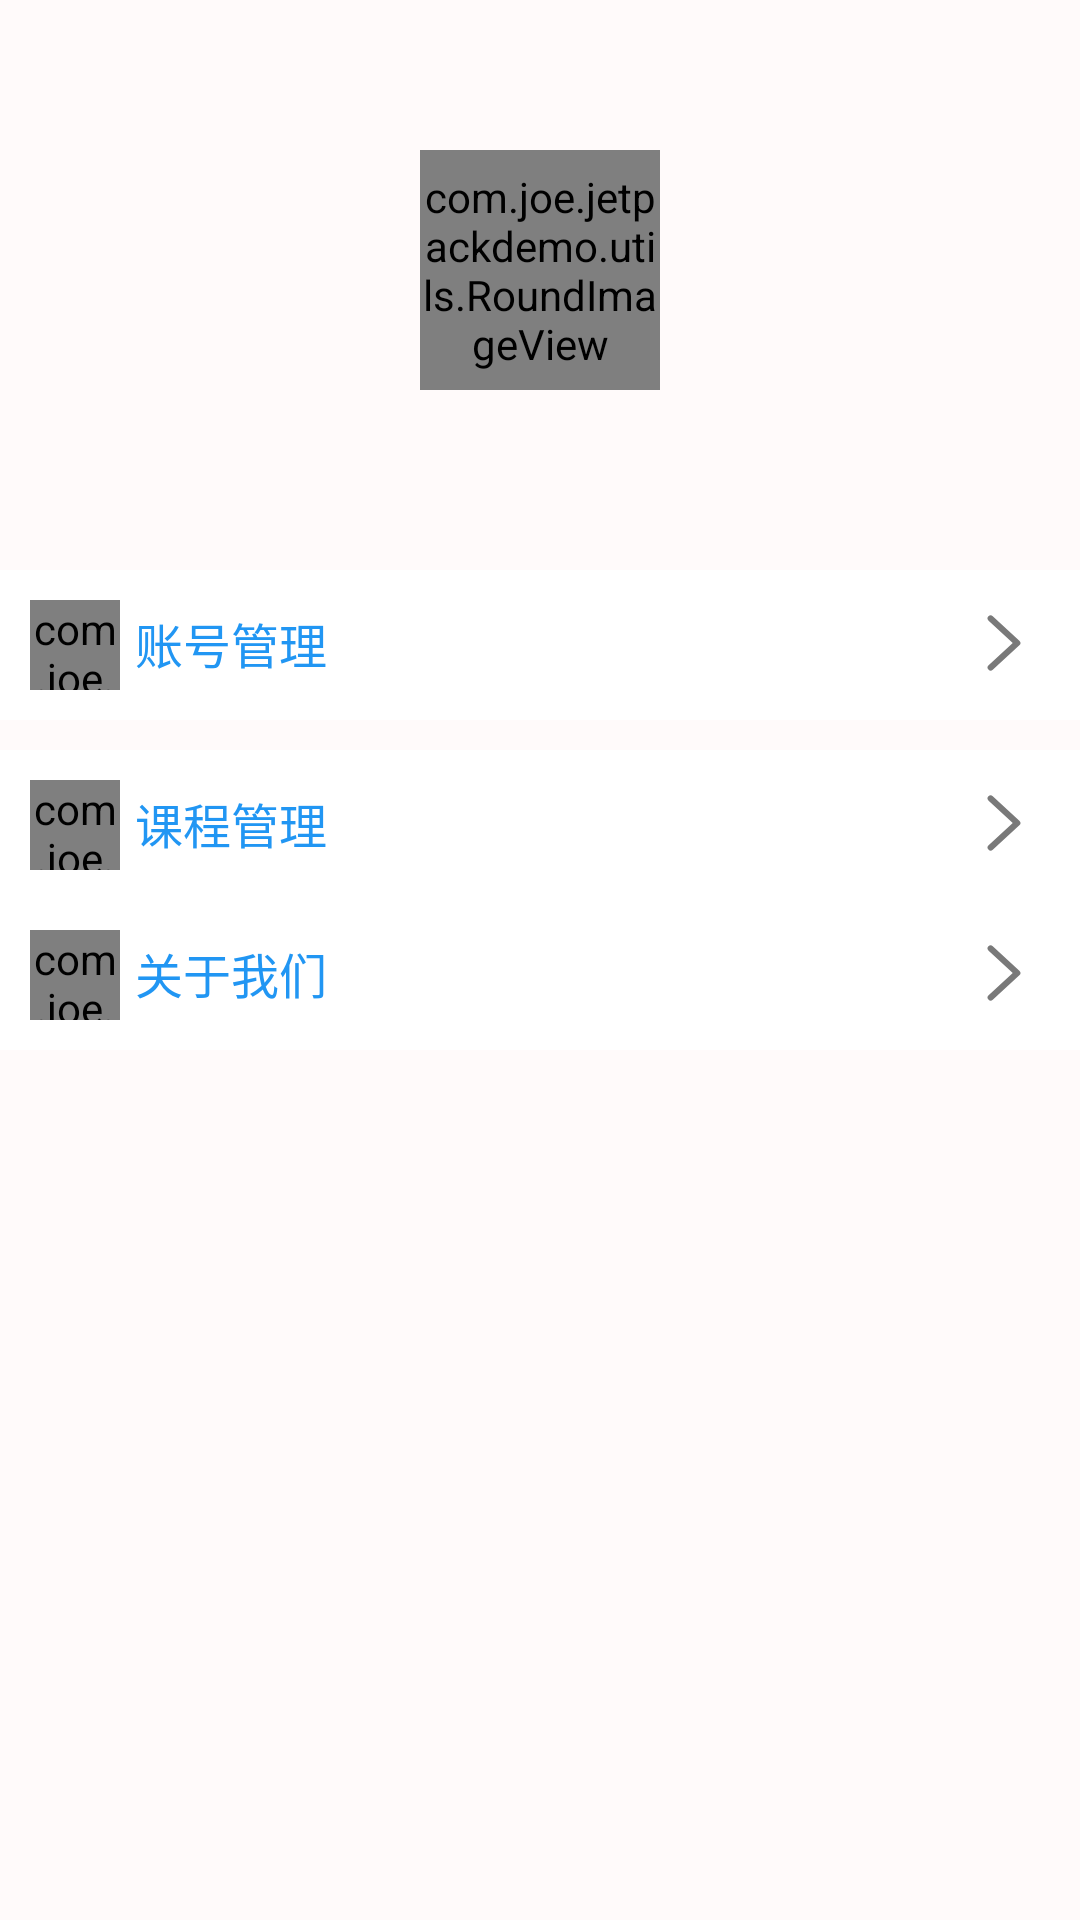

Icon click points for this 1080 × 1920 phone screenshot, format (x=x, y=y):
me right: (x=1004, y=643), (x=1004, y=823), (x=1004, y=973)
